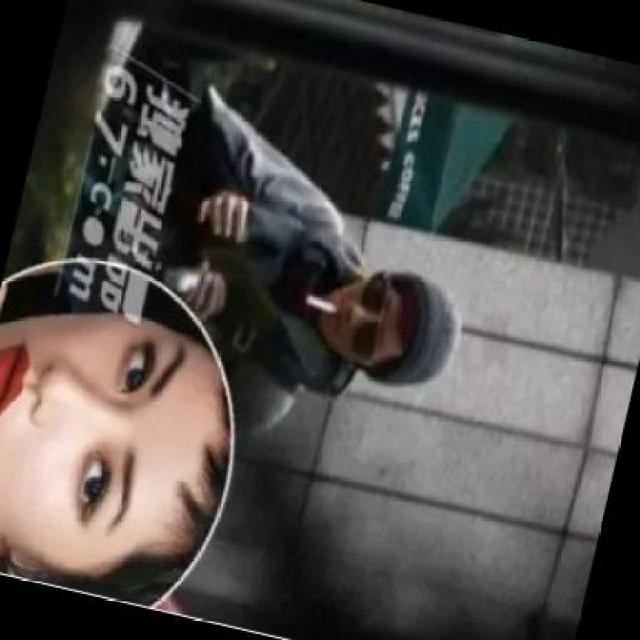cigarette: (300, 292, 343, 317)
